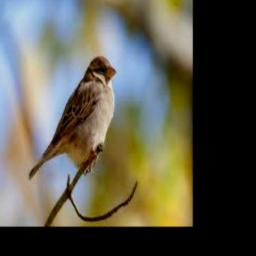Sparrow: (29, 55, 117, 182)
